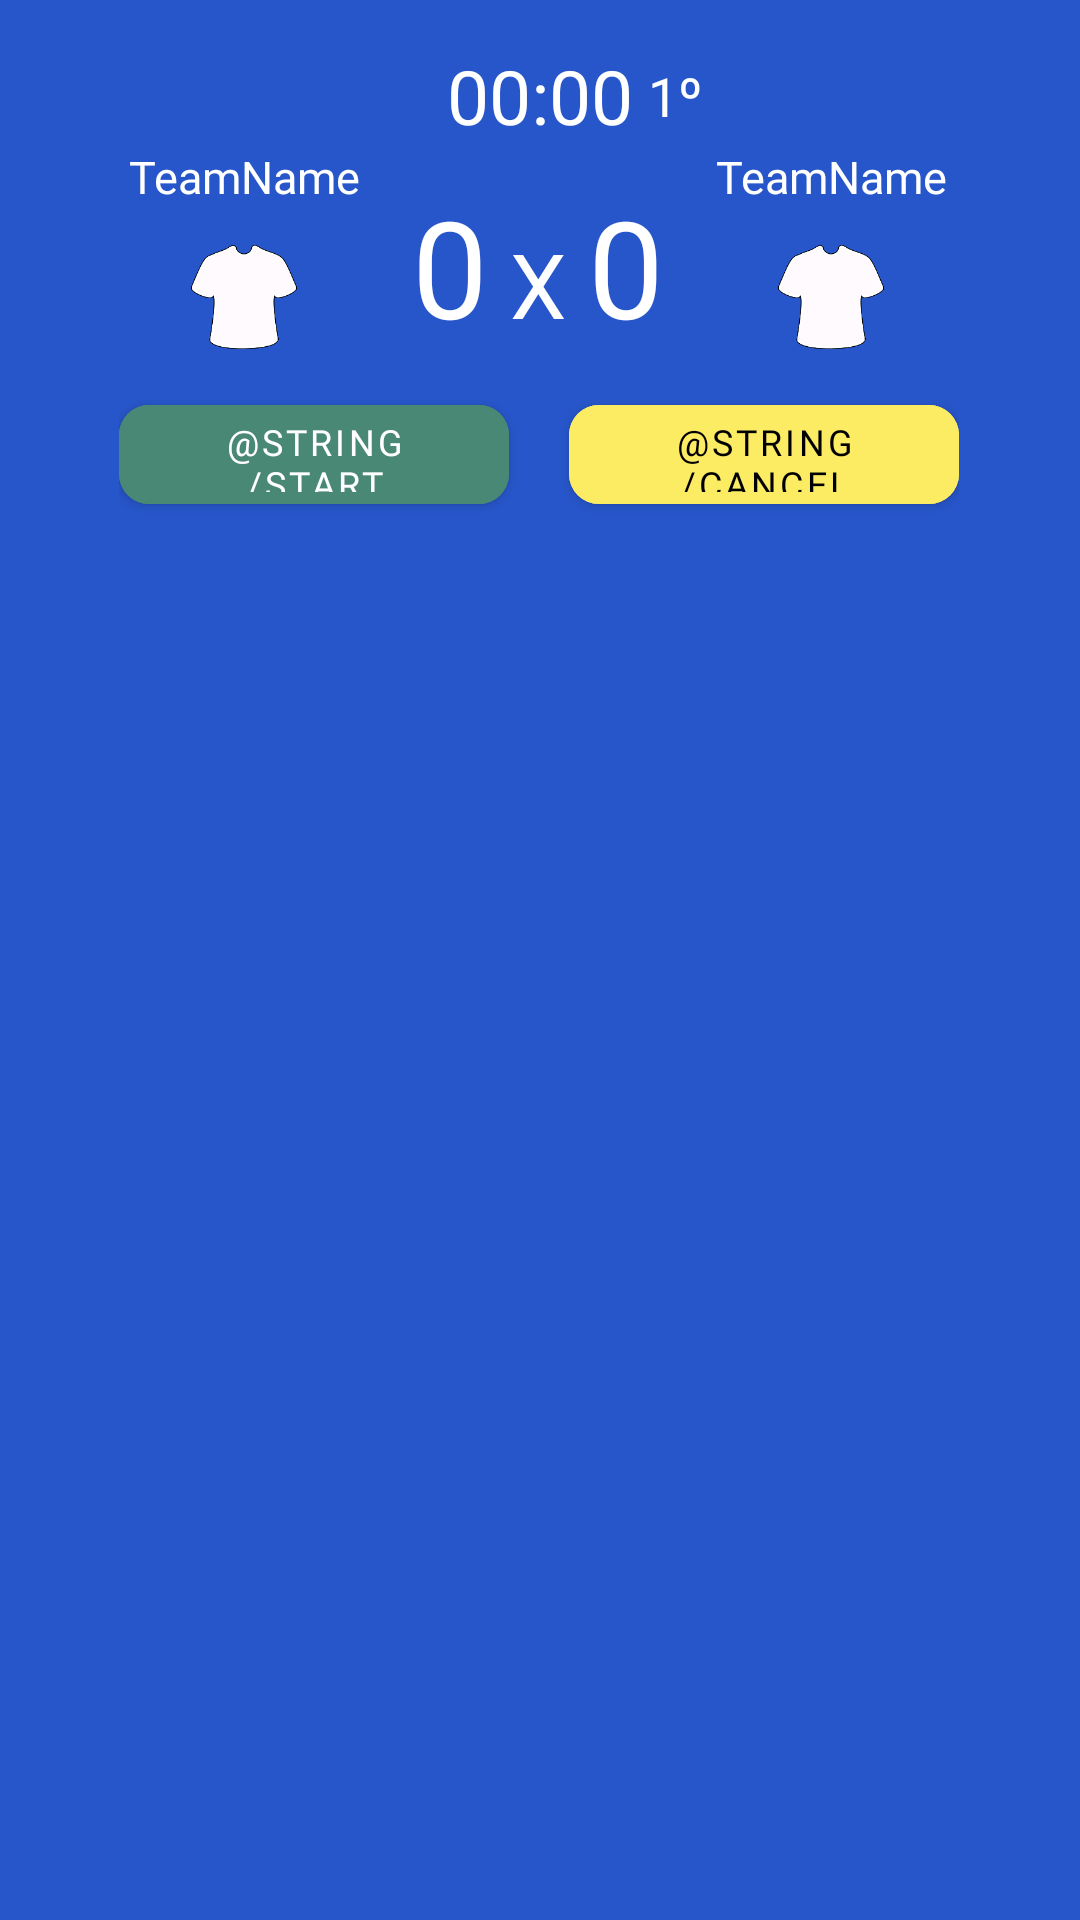

Where to tap for icons on this 1080*1920 app screen, as (x=x, y=y):
shirt select: (x=244, y=297), (x=831, y=297)
